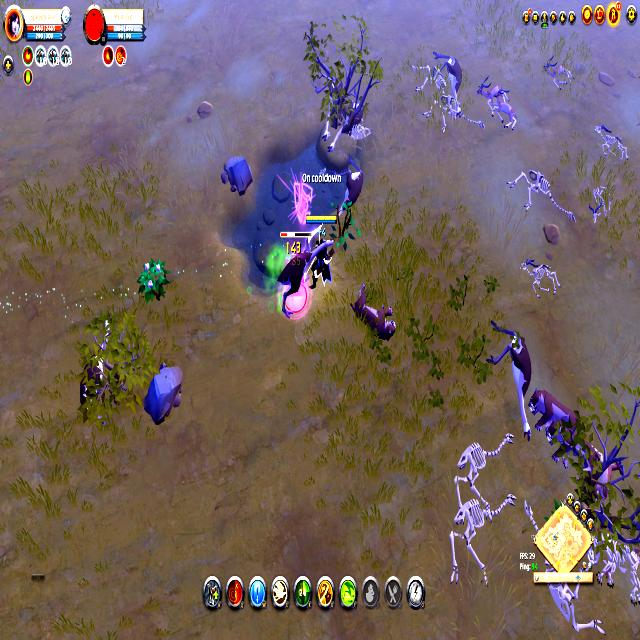hide: (138, 252, 168, 306)
mob: (75, 310, 114, 422), (498, 328, 534, 438), (527, 383, 582, 454), (578, 432, 624, 508), (349, 278, 399, 344), (319, 94, 370, 157), (332, 157, 366, 247), (476, 78, 519, 131), (542, 55, 576, 91), (442, 52, 464, 97)
ore: (274, 227, 316, 316)
red: (305, 210, 338, 288)
